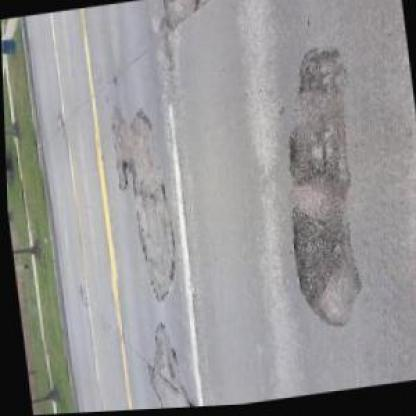pothole: (286, 202, 346, 306), (277, 125, 344, 191), (287, 47, 344, 99), (114, 157, 132, 173)
